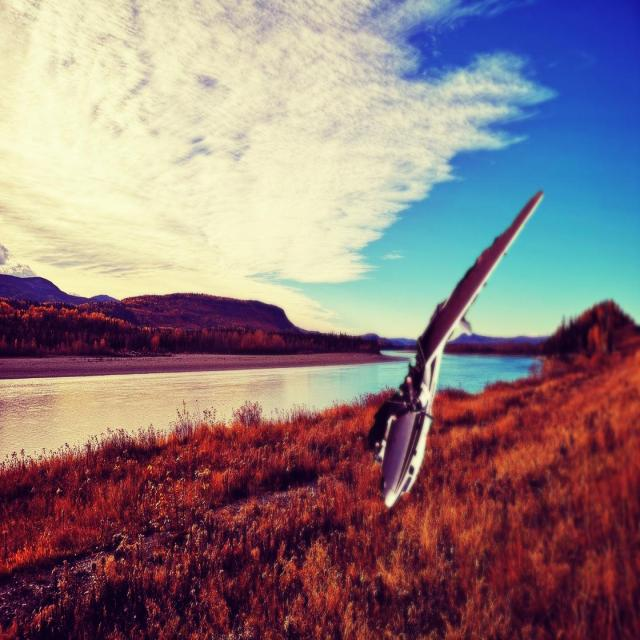airplane: (366, 188, 544, 509)
